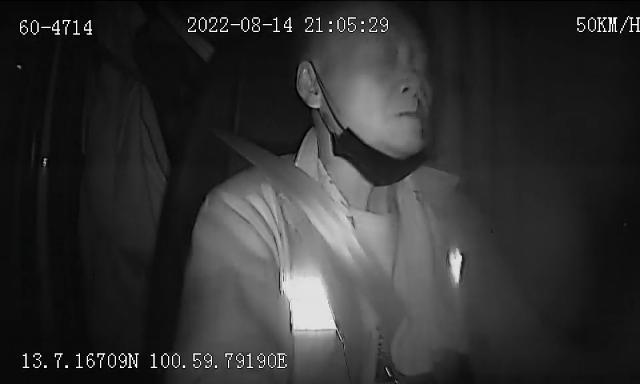Seatbelt: (213, 132, 404, 348)
